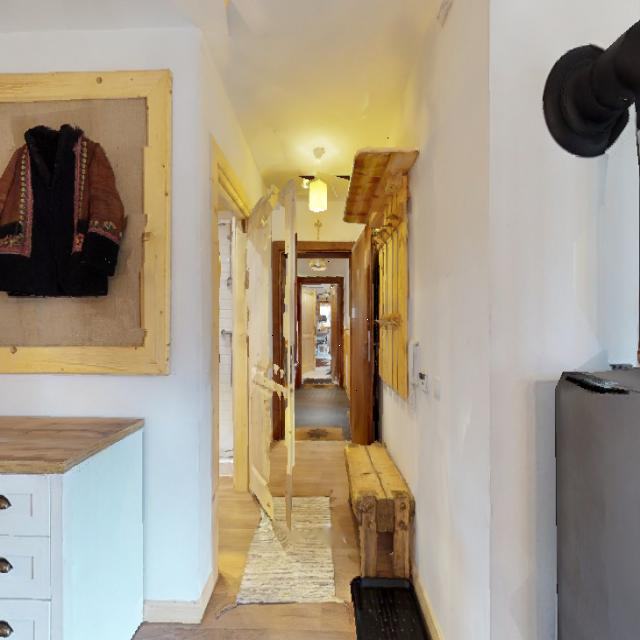door-frame: (204, 173, 266, 550), (272, 239, 368, 440)
